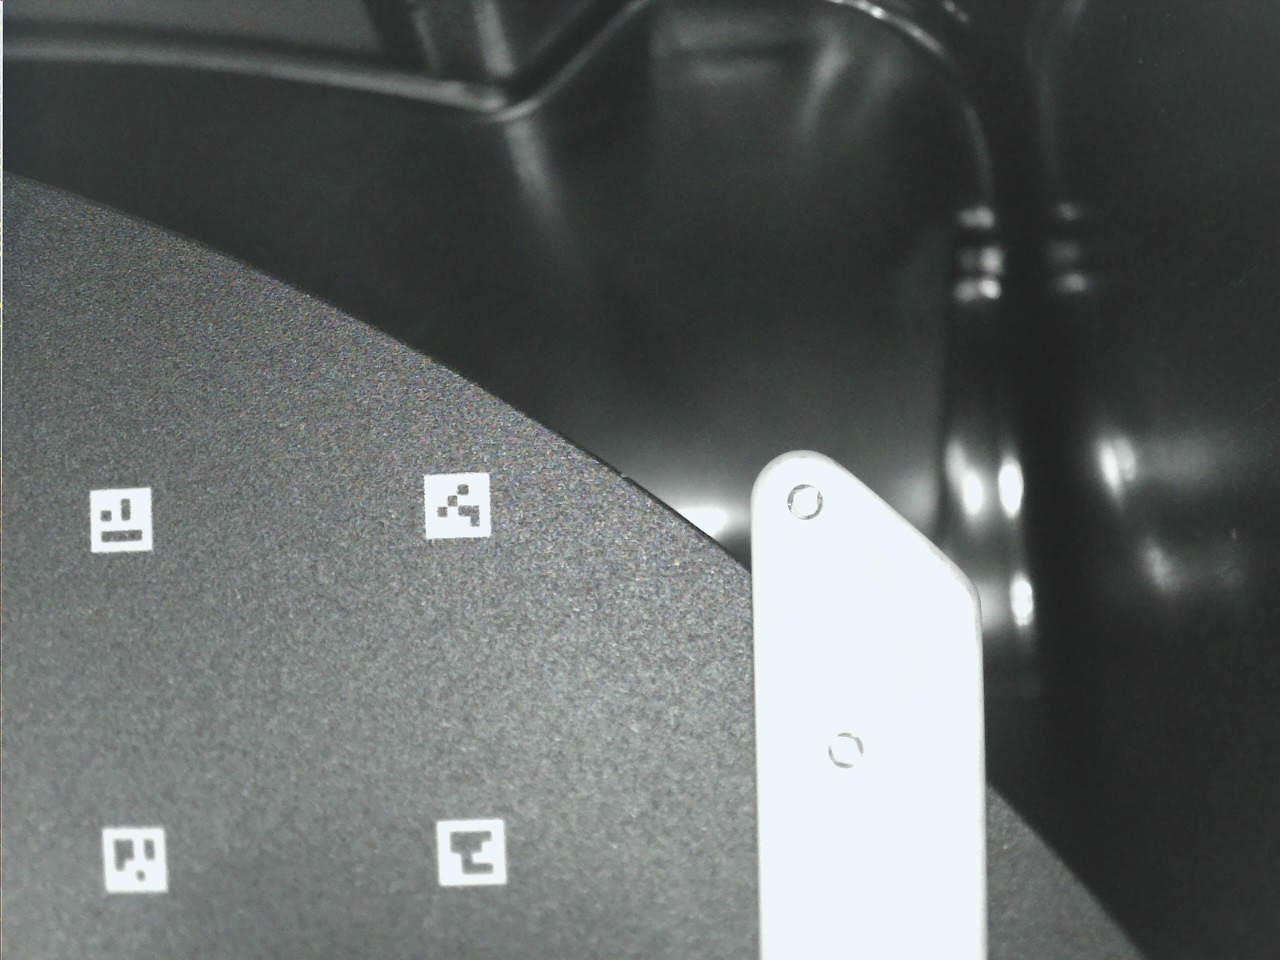forktip: (732, 428, 1007, 960)
